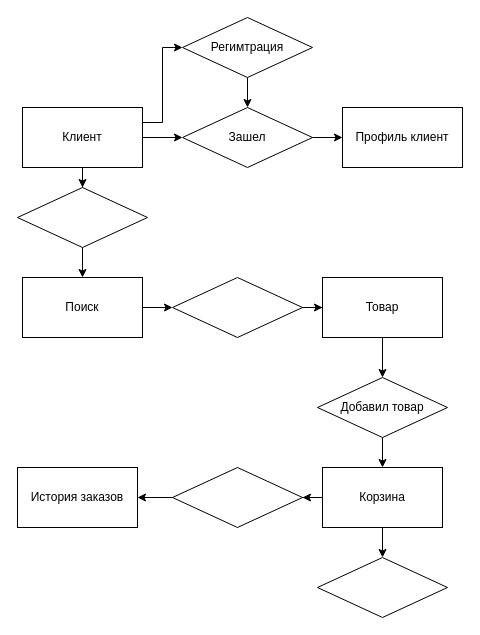
This 480x635 diagram has some shape labels left out. Here are the shapes that lost their labels. From the top down, the centre of each, then its label:
At [82,217]: "Совершил".
At [237,307]: "Выбрал".
At [237,497]: "Сохранил заказ".
At [382,587]: "Оформил".
